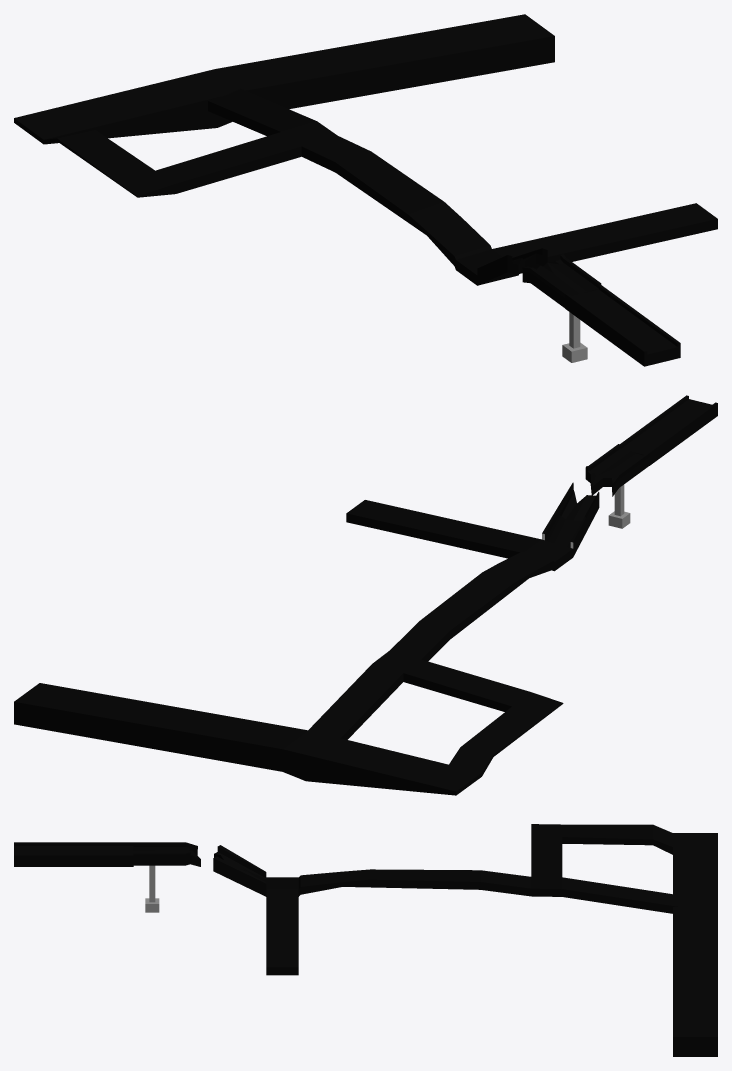
File: RuaLeste.fbx
3 views of the same model, one above another, from view 1: azimuth 30°, elevation 25°; view 2: azimuth 150°, elevation 25°; view 3: azimuth 270°, elevation 25° (orthographic). The views are drawn at different scales.
Parts seen in each view (by area): view 1: Cube.006; view 2: Cube.006; view 3: Cube.006.
Boxes of the visible parts, x1=… form: Cube.006: x1=14, y1=14, x2=717, y2=366; Cube.006: x1=14, y1=395, x2=717, y2=795; Cube.006: x1=14, y1=824, x2=717, y2=1056.
Size of the model in its own units: 9416 by 2082 by 14879.
